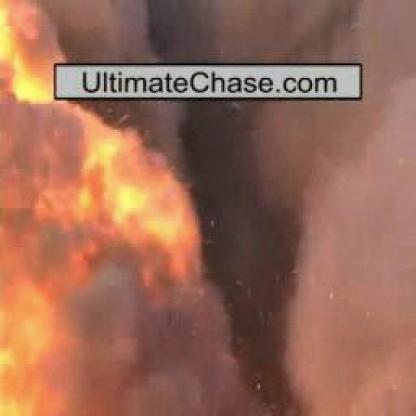fire: (51, 100, 220, 300), (0, 230, 100, 416), (0, 0, 79, 117)
